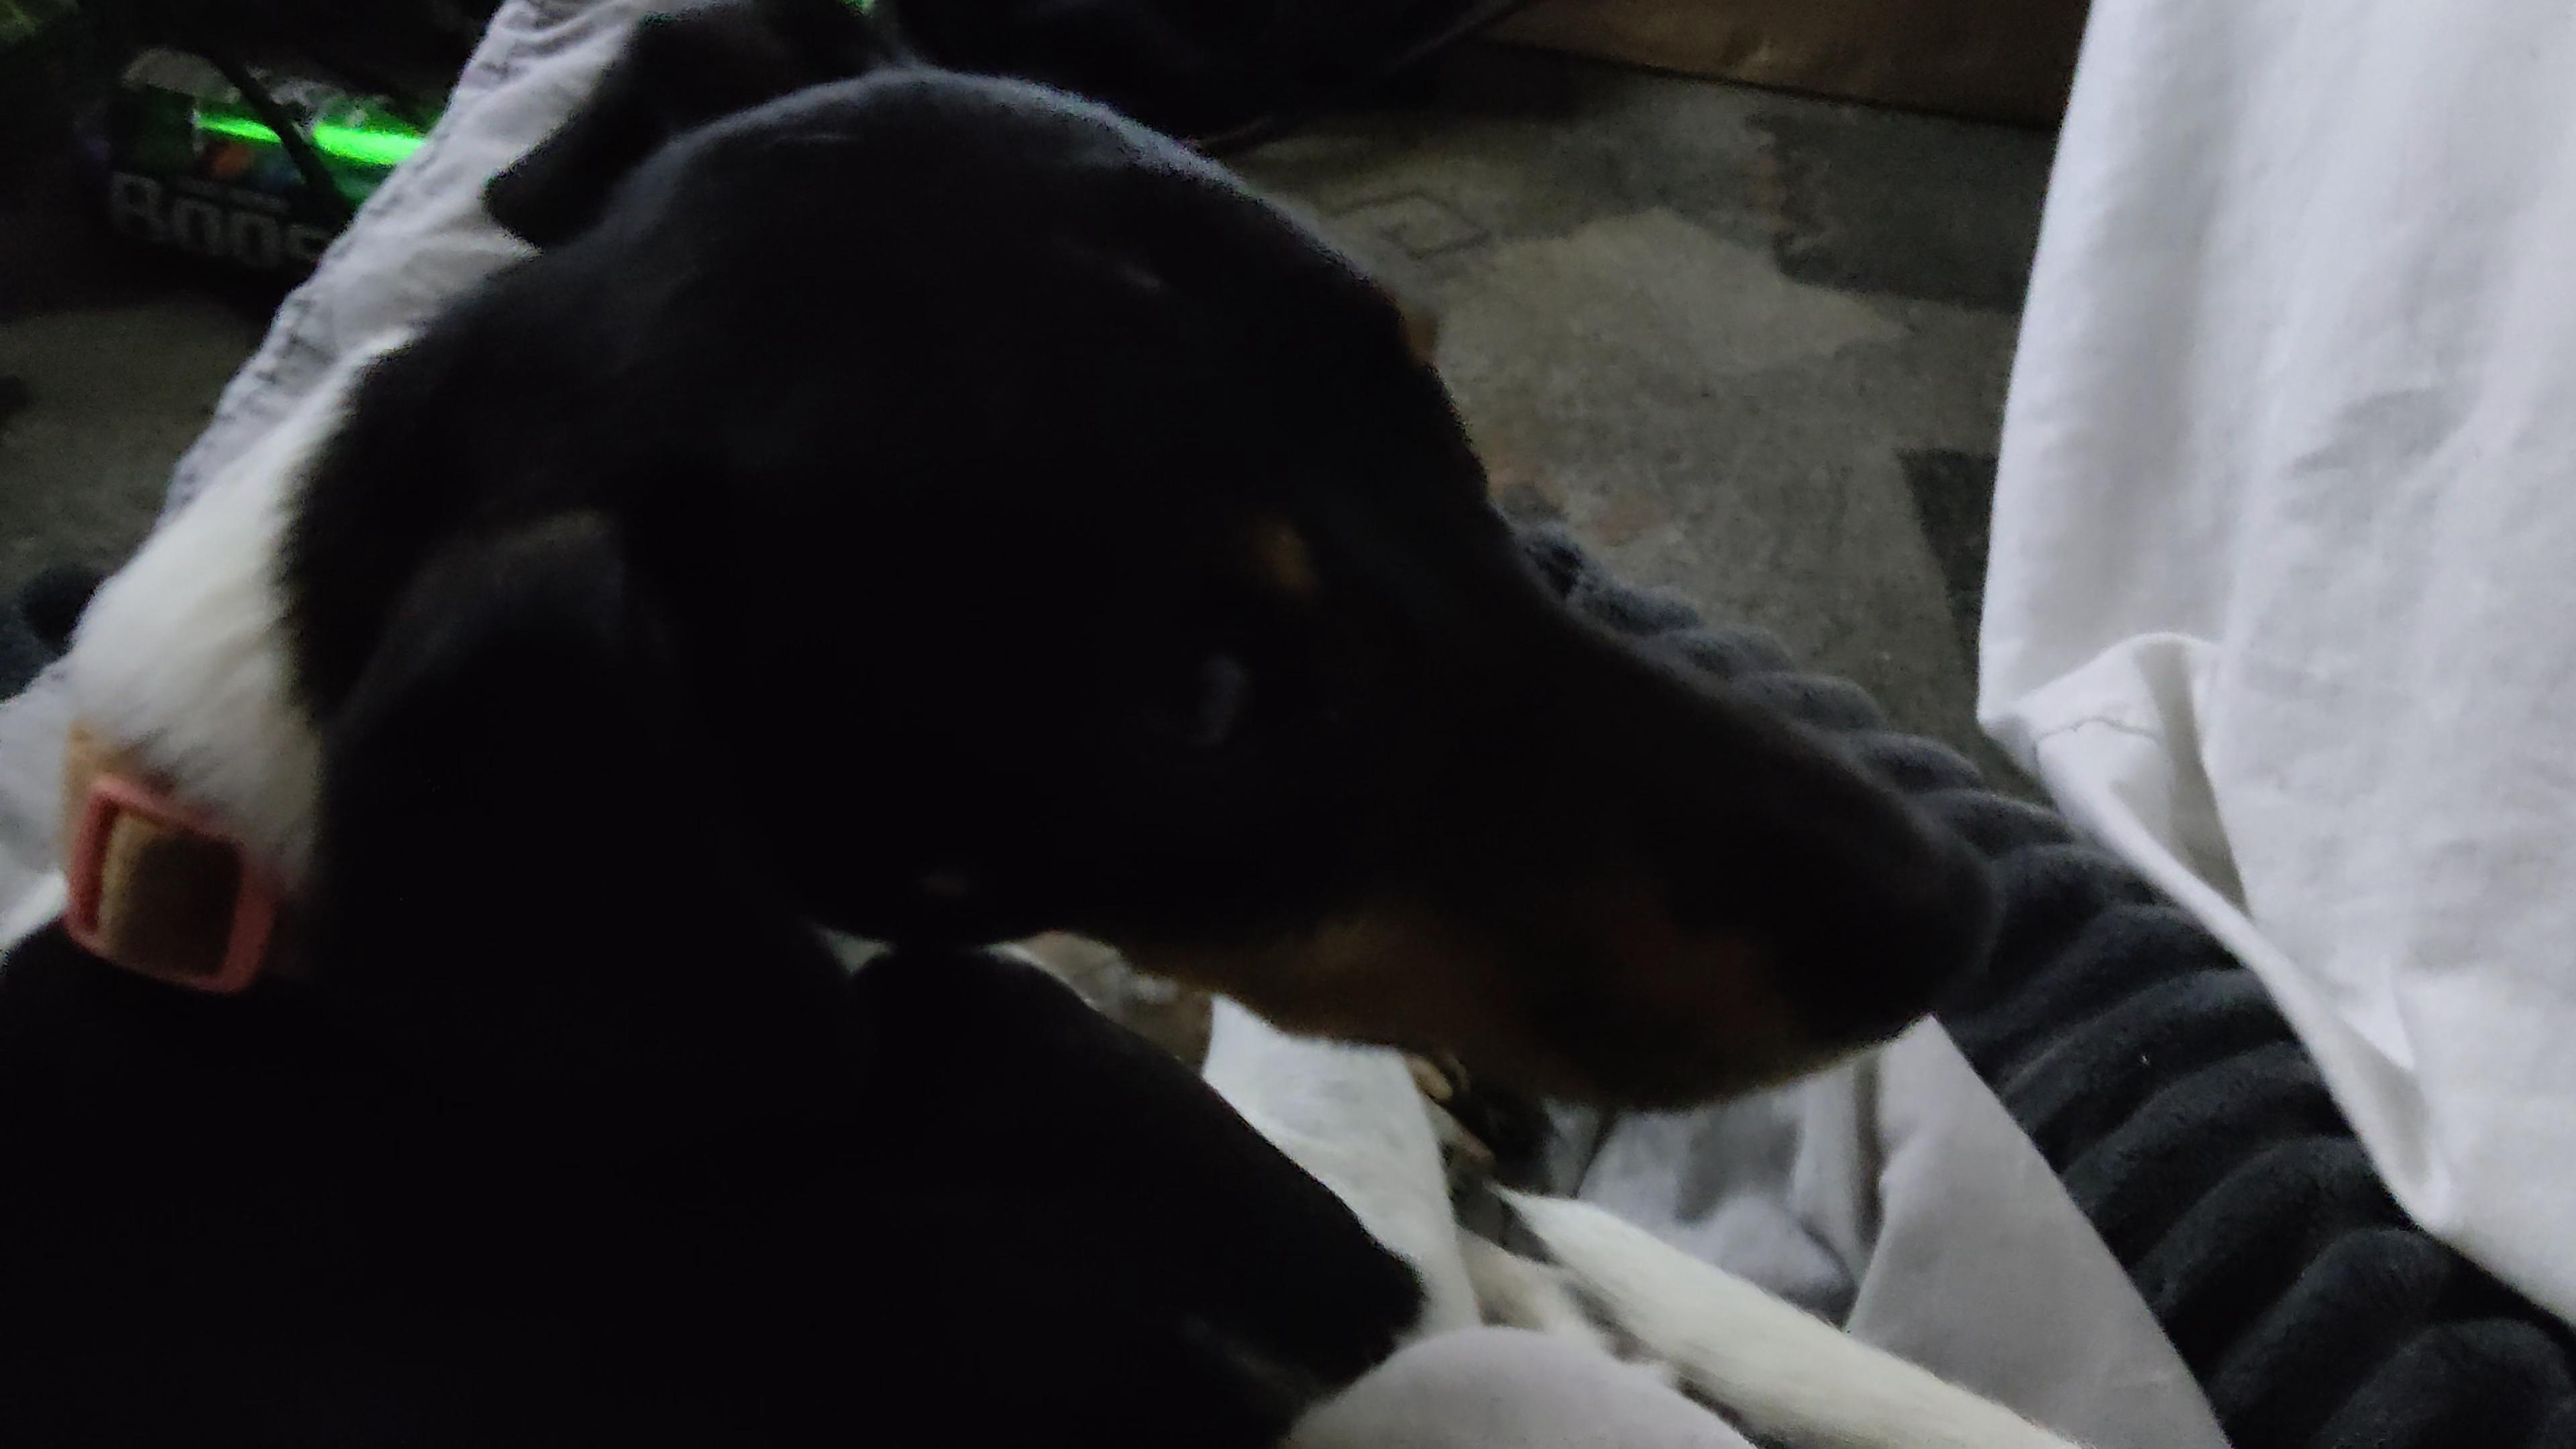Dog: (0, 0, 2112, 1449)
